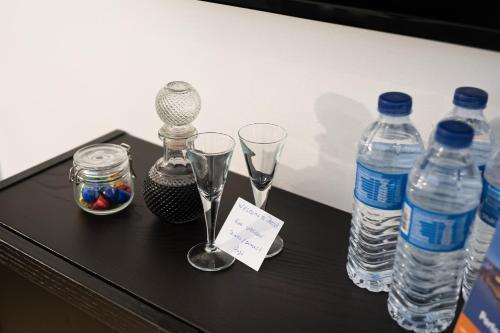bottle: (383, 115, 485, 333), (338, 86, 434, 300), (421, 78, 492, 311), (457, 118, 500, 320)
